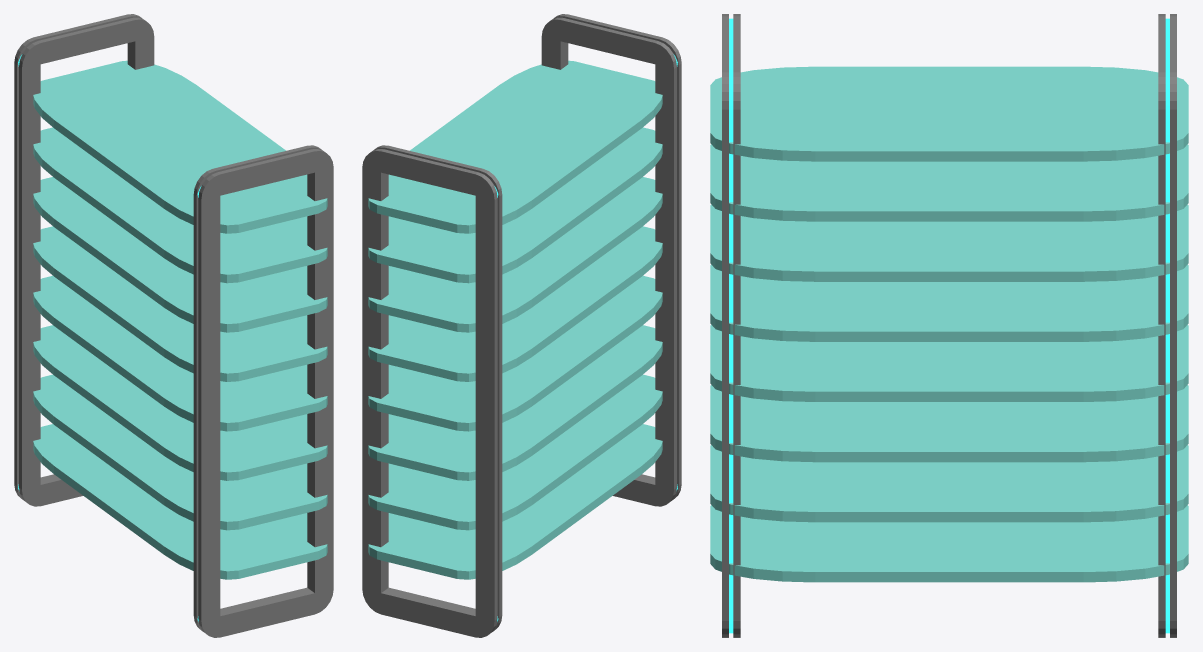
File: shelf_final.glb
3 views of the same model, side by side, from view 1: azimuth 30°, elevation 25°; view 2: azimuth 150°, elevation 25°; view 3: azimuth 270°, elevation 25° (orthographic). The views are drawn at different scales.
Parts seen in each view (by area): view 1: Frame.001; view 2: Frame.001; view 3: Frame.001.
Part boxes in pixels (<box>): Frame.001: <box>14,14,333,637</box>; Frame.001: <box>362,14,681,637</box>; Frame.001: <box>710,14,1188,637</box>.
Bounding box in the file's own units: 1.73 × 5.33 × 4.1.
